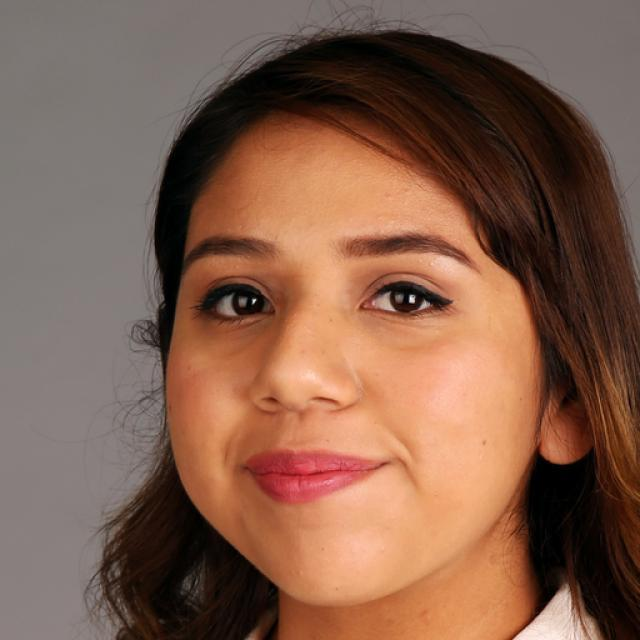happy: (160, 98, 544, 608)
